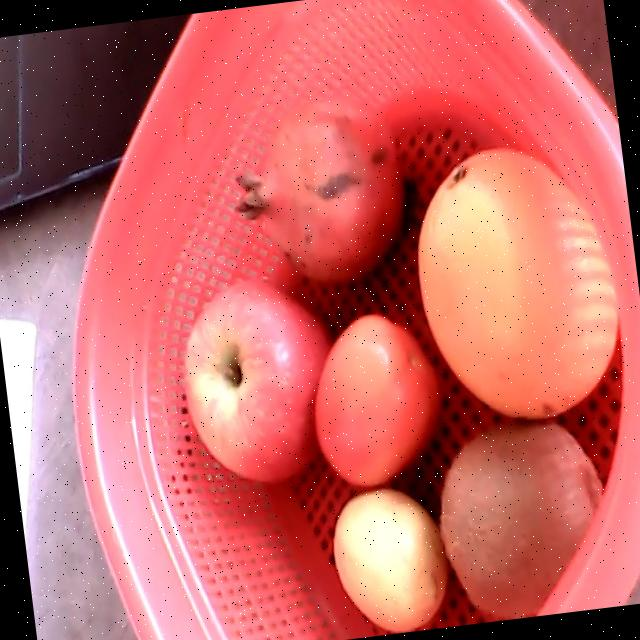apple: (183, 278, 331, 483)
kiwi: (441, 422, 605, 615)
lemon: (333, 486, 448, 633)
orange: (418, 147, 618, 417)
pomegranate: (234, 86, 403, 283)
tomato: (314, 313, 439, 487)
